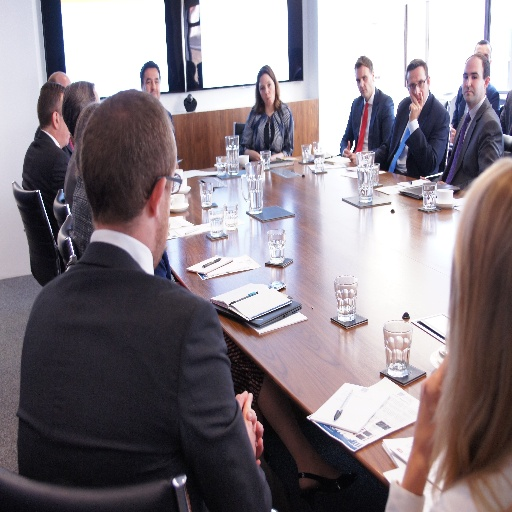hand: (411, 352, 451, 459), (236, 384, 264, 468), (408, 88, 424, 124), (342, 140, 352, 156), (449, 124, 456, 143), (346, 153, 357, 164), (252, 150, 261, 162)
